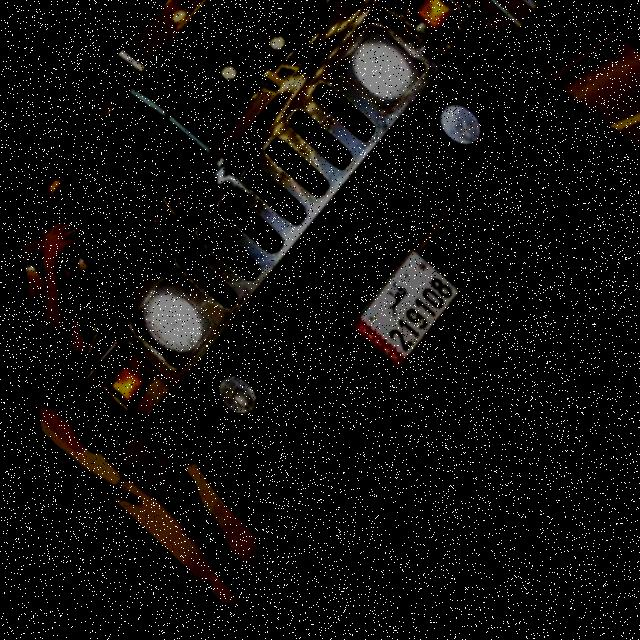license_plate: (331, 255, 464, 396)
